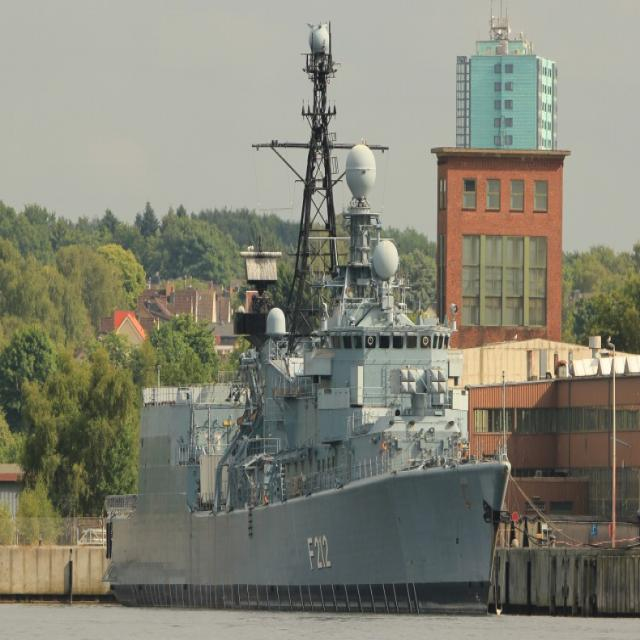Fragata: (100, 16, 515, 613)
